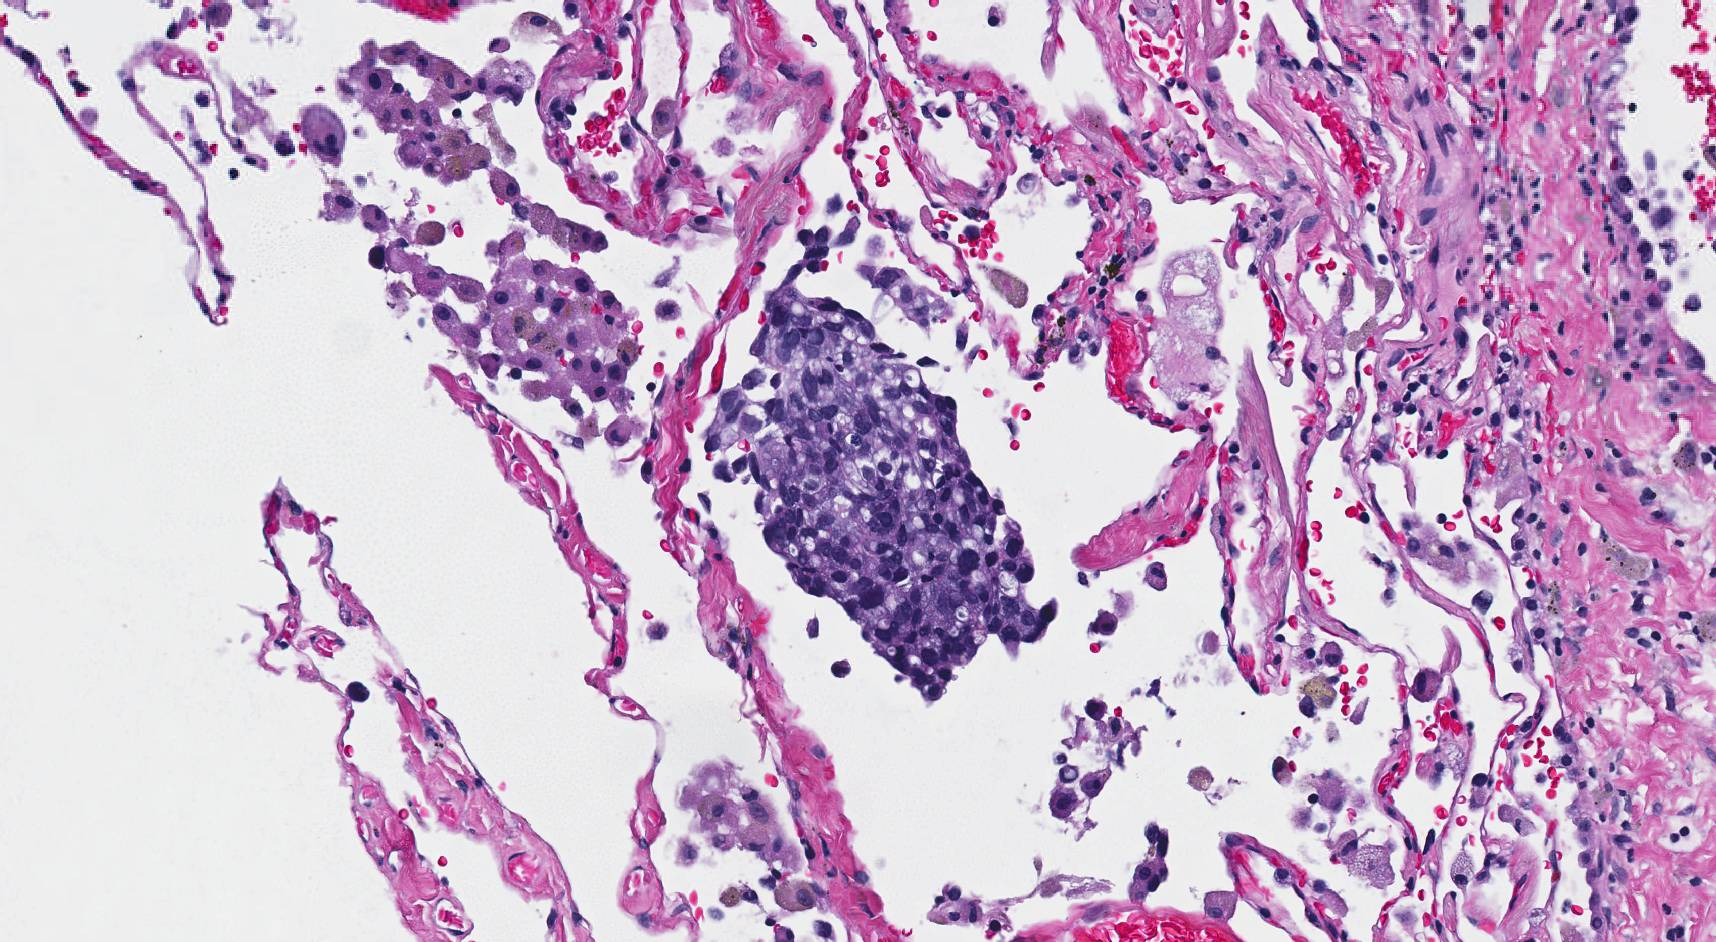stas: (703, 288, 1060, 703), (868, 261, 941, 332)
